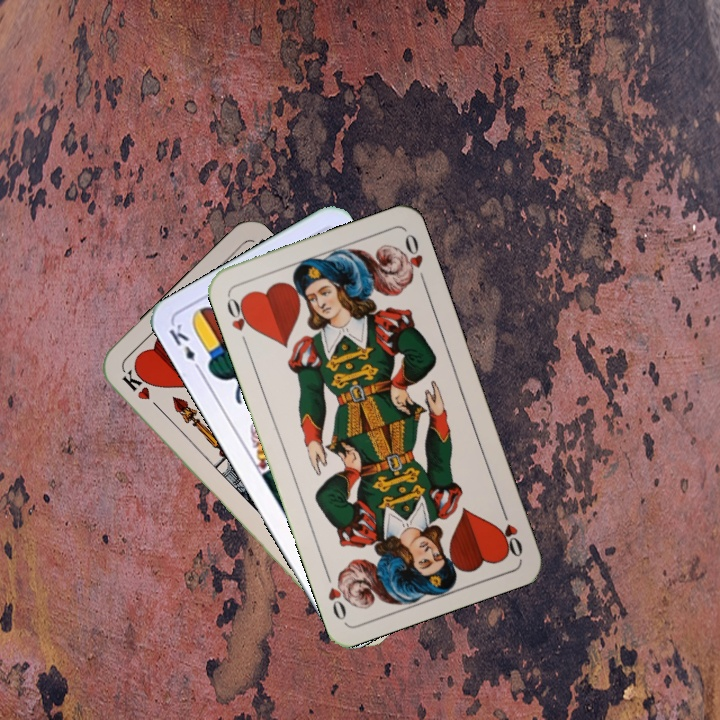EK: (164, 319, 205, 376)
HK: (118, 365, 166, 415)
HO: (223, 291, 256, 349), (495, 502, 525, 560)
